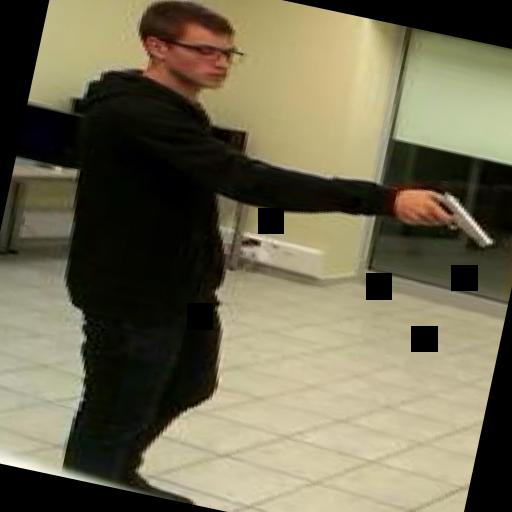Handgun: (398, 178, 501, 248)
